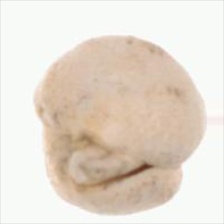L3: (66, 140, 152, 188)
L4: (33, 36, 206, 216)
